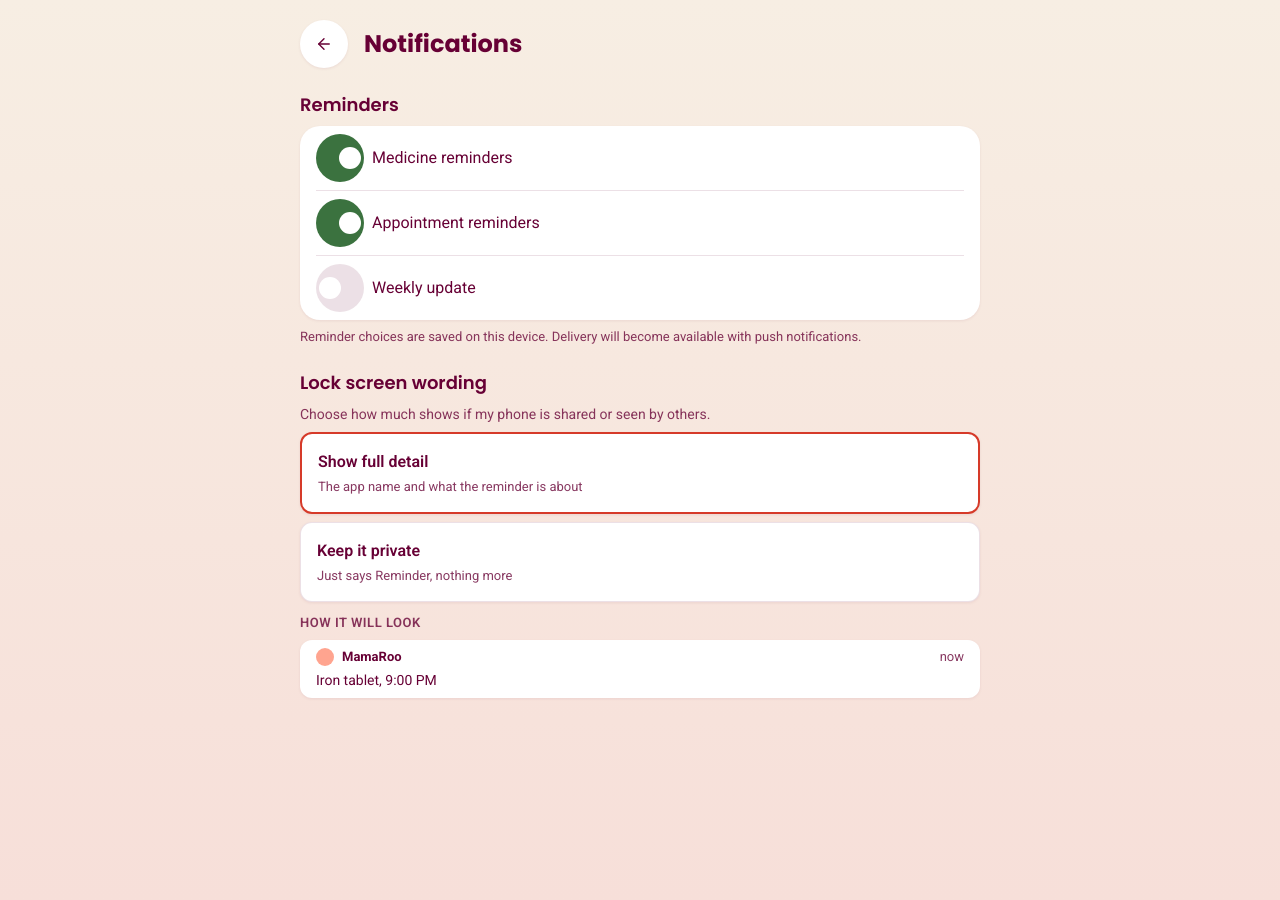
Test: NotificationsScreen › refuses a privacy write while offline and keeps the previous selection
Click the button "Keep it private" at (369, 550), box [300, 522, 980, 602]
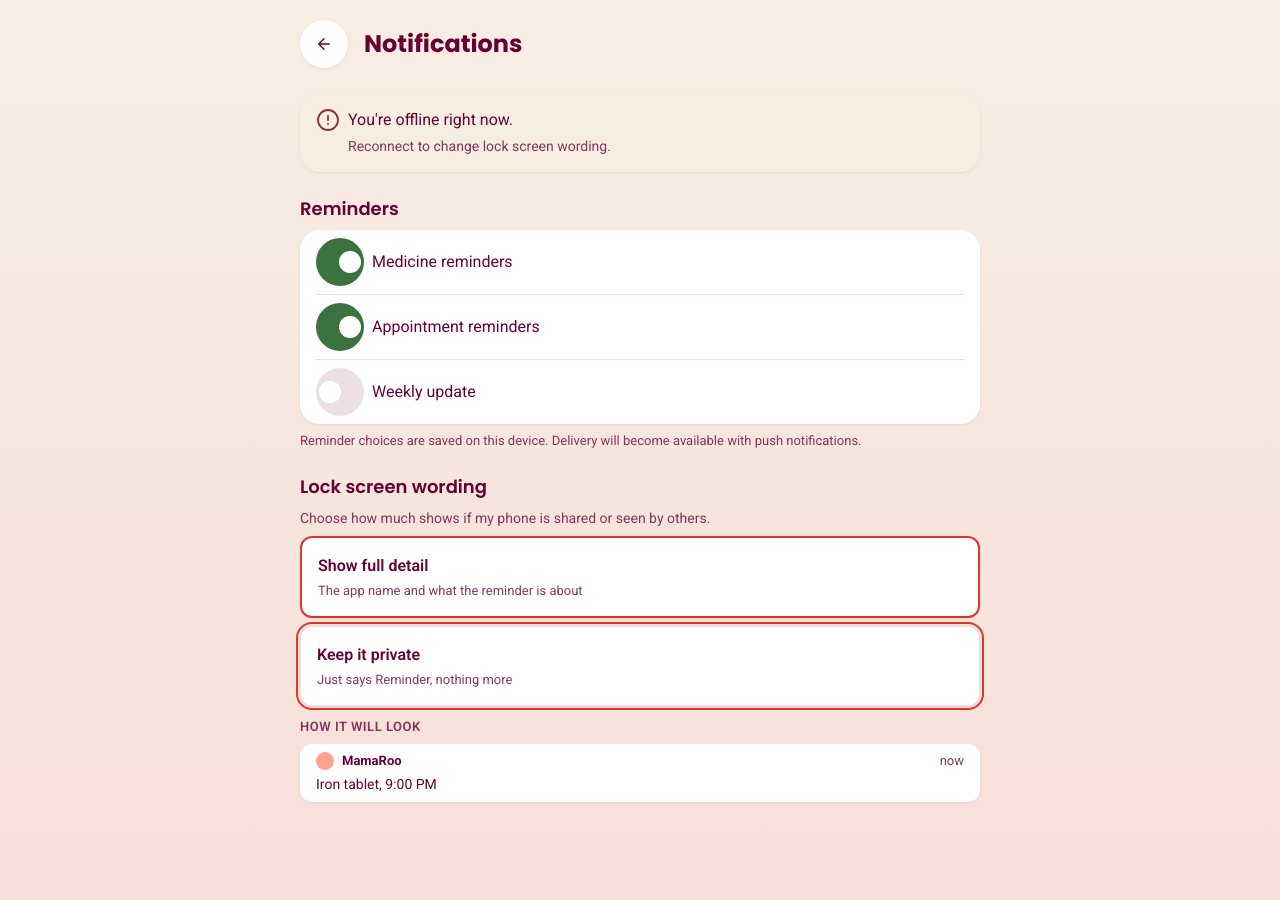
Expected: the message shows "offline", [348, 110, 513, 129]
